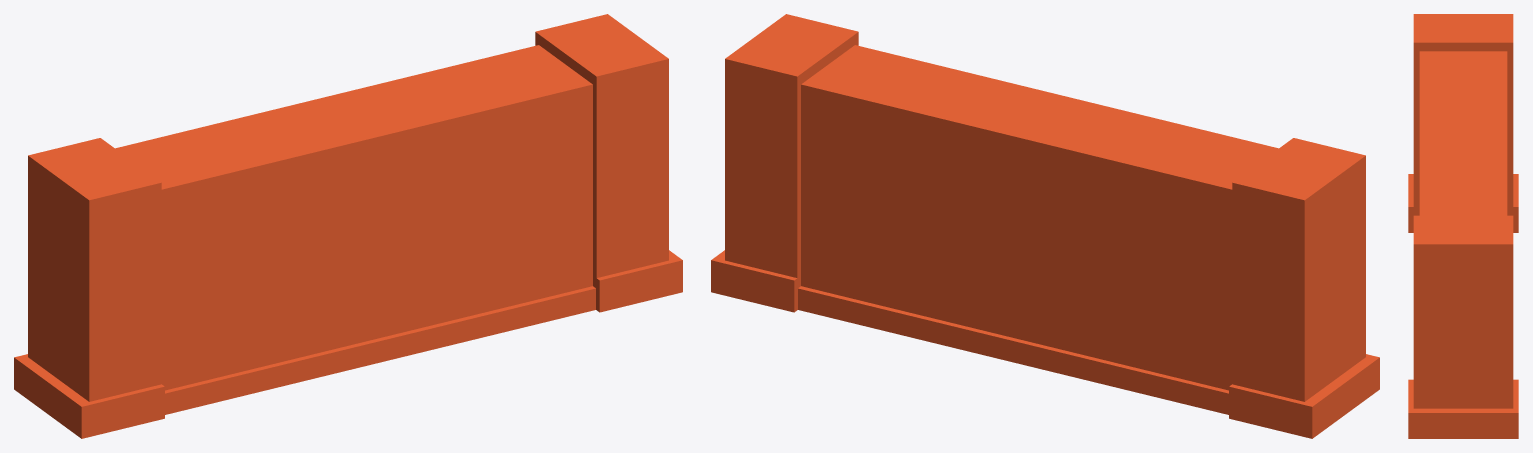
Rendered from Wall_Medium.fbx.
3 renders of one model, left to right at view 1: azimuth 30°, elevation 25°; view 2: azimuth 150°, elevation 25°; view 3: azimuth 270°, elevation 25°, orthographic. The views are drawn at different scales.
Visible parts, largest first — view 1: Wall_Medium; view 2: Wall_Medium; view 3: Wall_Medium.
Boxes of the visible parts, left/top/right/bottom form: Wall_Medium: left=14, top=14, right=682, bottom=438; Wall_Medium: left=711, top=14, right=1379, bottom=438; Wall_Medium: left=1408, top=14, right=1518, bottom=438.
Bounding box in the file's own units: 539 × 200 × 105.
